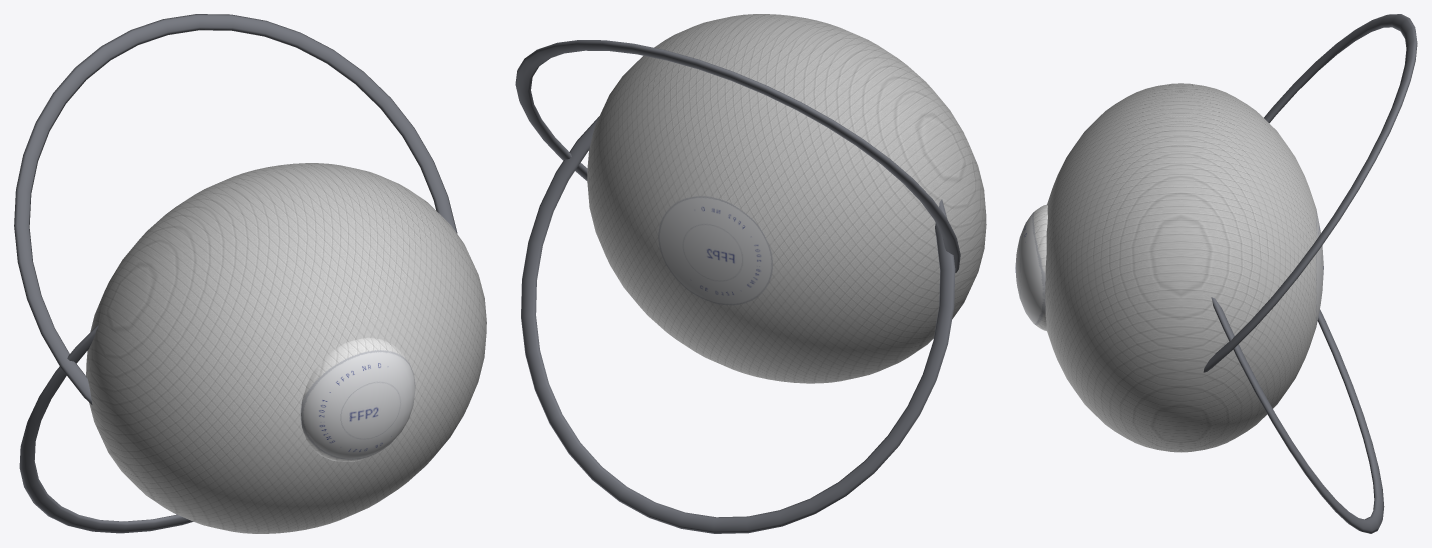
Rendered from atemmaske.glb.
3 views of the same model, side by side, from view 1: azimuth 30°, elevation 25°; view 2: azimuth 150°, elevation 25°; view 3: azimuth 270°, elevation 25° (orthographic). The views are drawn at different scales.
Visible parts, largest first — view 1: atemmaske; view 2: atemmaske; view 3: atemmaske.
Part boxes in pixels (box(x1,y1,x2,y2)): atemmaske: box(14, 14, 486, 533); atemmaske: box(515, 14, 986, 533); atemmaske: box(1015, 14, 1417, 533).
Bounding box in the file's own units: 0.1492 × 0.1667 × 0.1294.
Materials: 2 (1 with a texture image).
